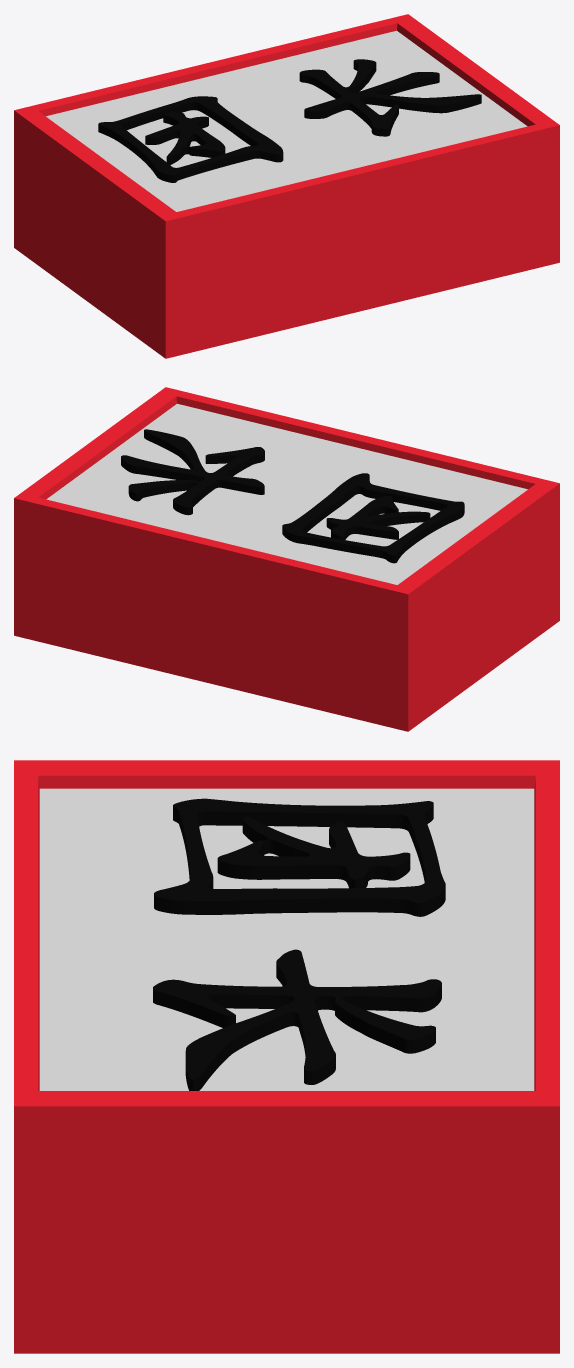
The model's file is 5_tuan_zhang.fbx.
The picture shows the model from 3 angles, top to bottom: view 1: azimuth 30°, elevation 25°; view 2: azimuth 150°, elevation 25°; view 3: azimuth 270°, elevation 25°; orthographic projection. The views are drawn at different scales.
Visible parts, largest first — view 1: Cube, 文本; view 2: Cube, 文本; view 3: Cube, 文本.
Boxes of the visible parts, left/top/right/bottom form: Cube: left=14, top=14, right=559, bottom=358; 文本: left=98, top=59, right=481, bottom=182; Cube: left=14, top=387, right=559, bottom=731; 文本: left=121, top=429, right=464, bottom=563; Cube: left=14, top=760, right=559, bottom=1353; 文本: left=153, top=798, right=445, bottom=1090.
Bounding box in the file's own units: 240 × 80.47 × 160.
